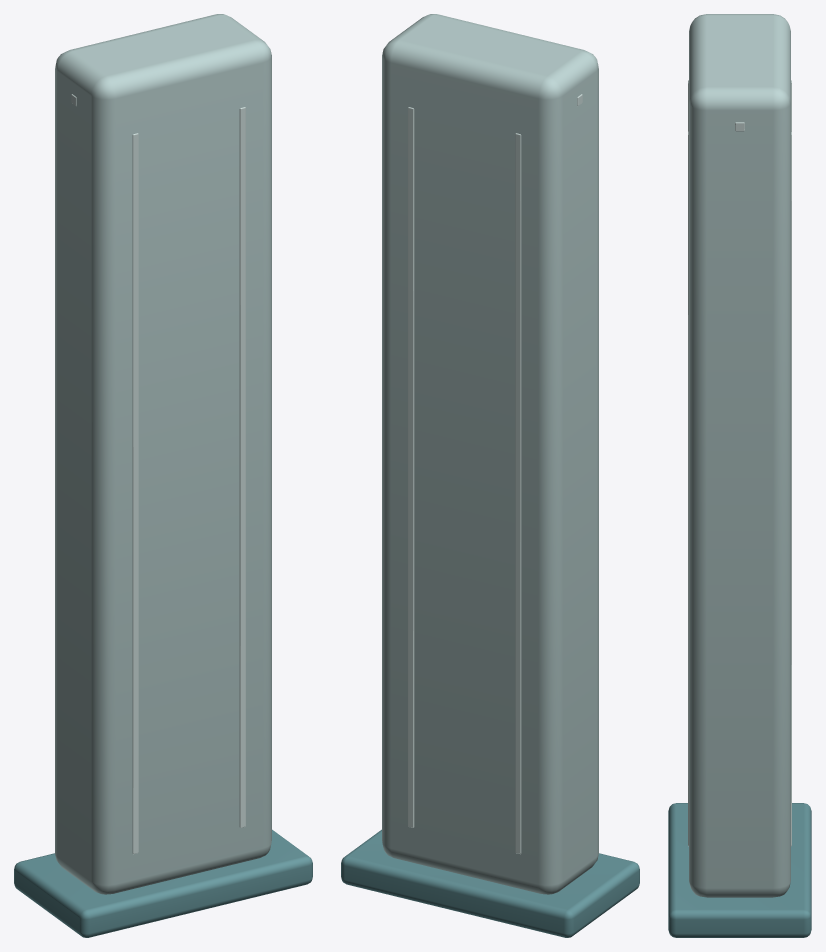
The model's file is monolith.glb.
3 renders of one model, left to right at view 1: azimuth 30°, elevation 25°; view 2: azimuth 150°, elevation 25°; view 3: azimuth 270°, elevation 25°, orthographic.
Visible parts, largest first — view 1: monolith; view 2: monolith; view 3: monolith.
Boxes of the visible parts, bbox=[...] form: monolith: bbox=[14, 14, 312, 937]; monolith: bbox=[341, 14, 639, 937]; monolith: bbox=[668, 14, 811, 937].
Size of the model in its own units: 5.2 by 18 by 2.8.
